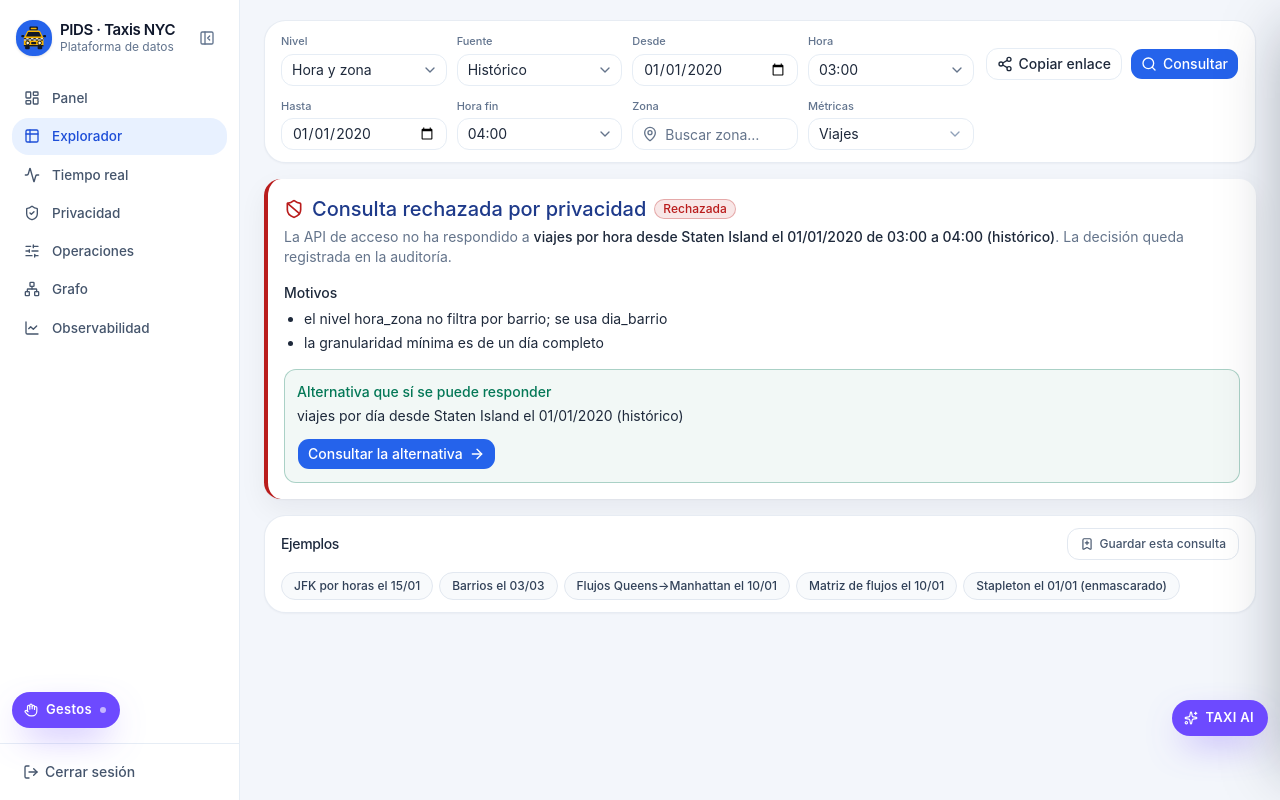
Test: PaginaExplorador › un 403 muestra la tarjeta de rechazo con los motivos y «Consultar la alternativa» la relanza
Expected: the message shows "Consulta rechazada por privacidad", [312,197,646,221]
Expected: the list items read "el nivel hora_zona no filtra por barrio; se usa dia_barrio", "la granularidad mínima es de un día completo", in this order, [304,310,667,327]; [304,334,604,351]
Step 1. Click the button "Consultar la alternativa" → (396, 454), box [297,438,496,470]
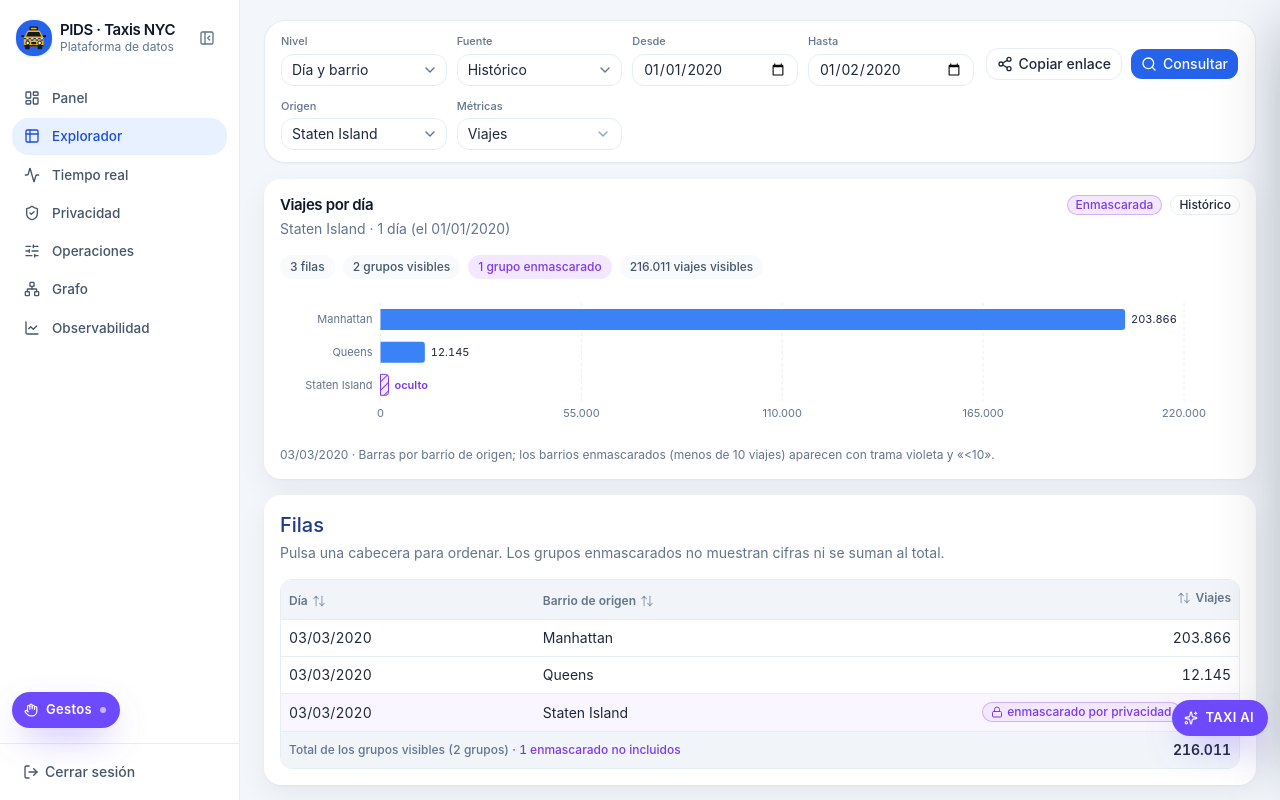
Expected: the message "Consulta rechazada por privacidad rechazada La API de acceso no ha respondido a" is gone
Expected: the text "Staten Island · 1 día (el 01/01/2020)" is shown, [280,219,510,239]
Expected: the table named "Filas:" is shown, [281,580,1239,768]
